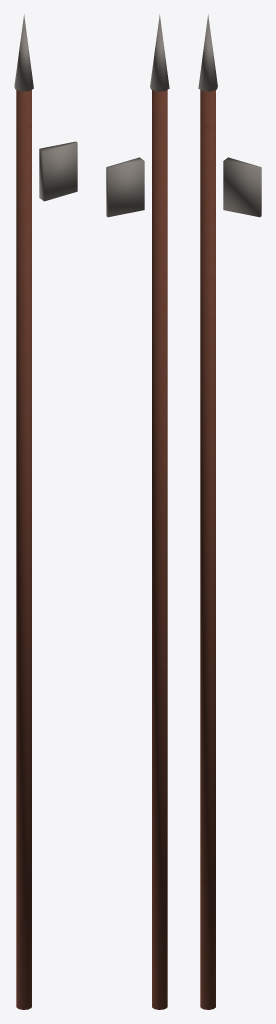
File: halberd.fbx
3 views of the same model, side by side, from view 1: azimuth 30°, elevation 25°; view 2: azimuth 210°, elevation 25°; view 3: azimuth 330°, elevation 25° (orthographic).
Visible parts, largest first — view 1: halberd; view 2: halberd; view 3: halberd.
Part boxes in pixels (x1=…): halberd: x1=14, y1=14, x2=77, y2=1009; halberd: x1=106, y1=14, x2=169, y2=1009; halberd: x1=198, y1=14, x2=261, y2=1009.
Bounding box in the file's own units: 0.105 × 1.62 × 0.03.
2 materials, 1 textured.
